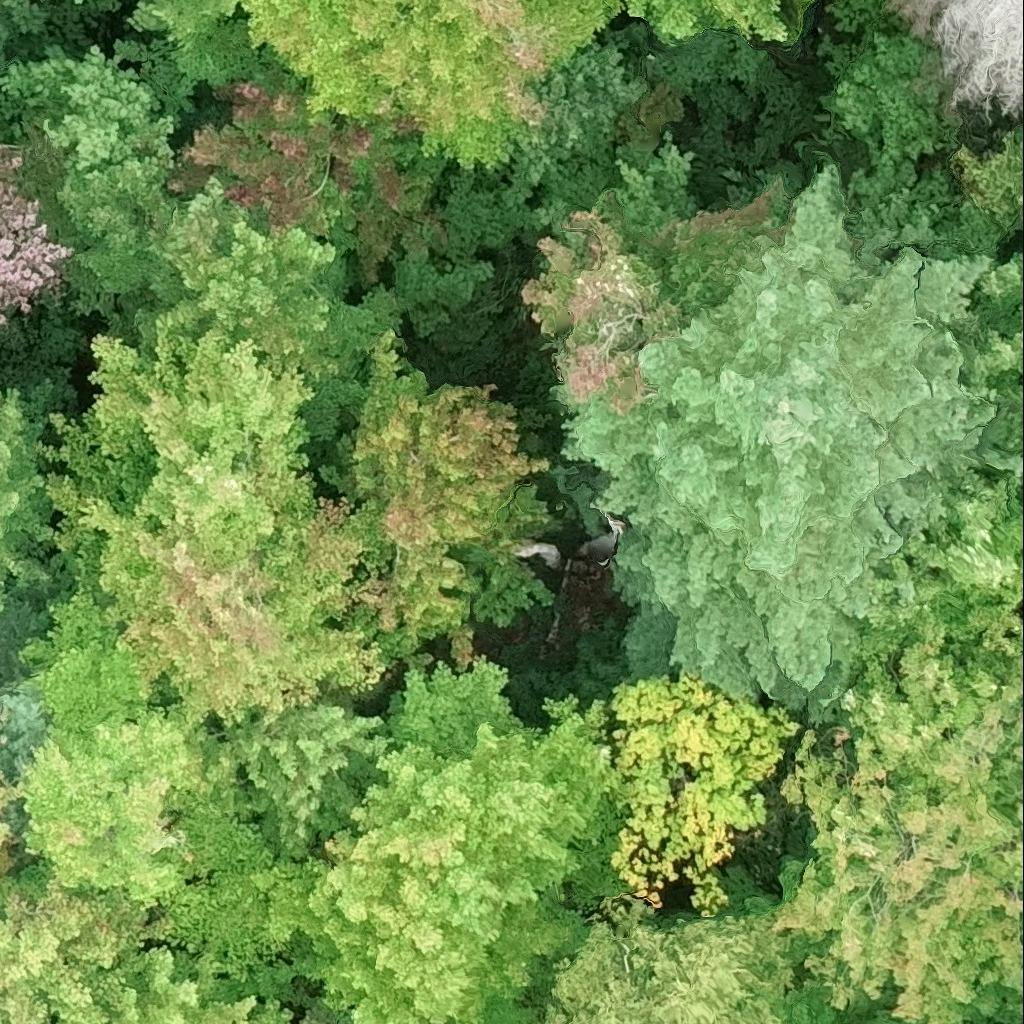crown: (559, 162, 1023, 702), (0, 99, 497, 440), (256, 655, 633, 1023), (57, 390, 385, 737), (780, 645, 1023, 1023), (522, 132, 796, 418), (324, 329, 552, 671), (169, 17, 459, 283), (237, 0, 624, 167), (42, 327, 317, 515), (448, 21, 654, 261), (828, 469, 1023, 720), (612, 677, 797, 918), (147, 720, 315, 984), (16, 712, 211, 908), (535, 888, 797, 1023), (0, 856, 191, 1023), (229, 705, 399, 866), (0, 43, 177, 188), (23, 590, 148, 753), (0, 551, 76, 790), (887, 0, 1023, 122), (0, 144, 77, 324), (956, 256, 1023, 457), (0, 379, 52, 613), (132, 0, 248, 93), (124, 948, 257, 1023), (235, 952, 348, 1023), (613, 0, 787, 44), (955, 122, 1023, 225), (8, 0, 54, 29), (0, 823, 16, 883), (0, 770, 18, 816), (1012, 473, 1023, 504), (1014, 975, 1023, 993), (73, 0, 88, 4)
